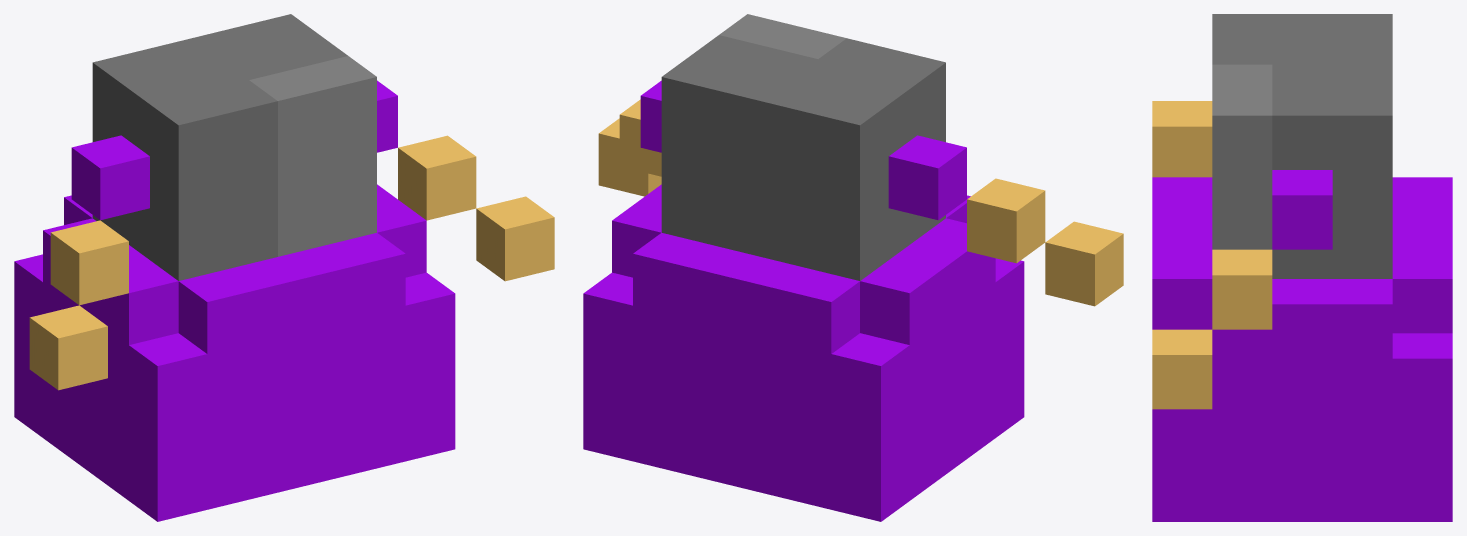
The model's file is Body 13.obj.
3 views of the same model, side by side, from view 1: azimuth 30°, elevation 25°; view 2: azimuth 150°, elevation 25°; view 3: azimuth 270°, elevation 25° (orthographic). The views are drawn at different scales.
Bounding box in the file's own units: 10 × 7 × 5.
Materials: 1 (1 with a texture image).
